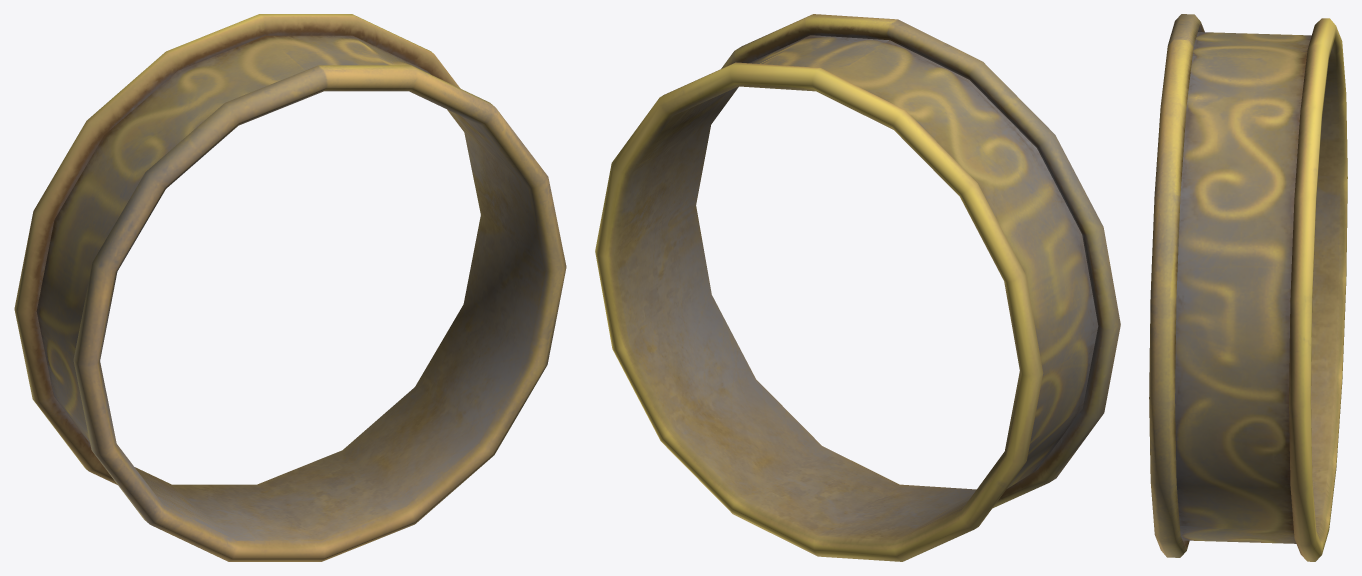
The model's file is Ring1.fbx.
The picture shows the model from 3 angles, left to right: view 1: azimuth 30°, elevation 25°; view 2: azimuth 150°, elevation 25°; view 3: azimuth 270°, elevation 25°; orthographic projection.
Parts seen in each view (by area): view 1: Ring1_LP.001; view 2: Ring1_LP.001; view 3: Ring1_LP.001.
Boxes of the visible parts, <box> form: Ring1_LP.001: <box>14,14,566,561</box>; Ring1_LP.001: <box>595,14,1120,561</box>; Ring1_LP.001: <box>1149,14,1347,561</box>.
Size of the model in its own units: 1 by 2.8 by 2.75.
1 material, 1 textured.
